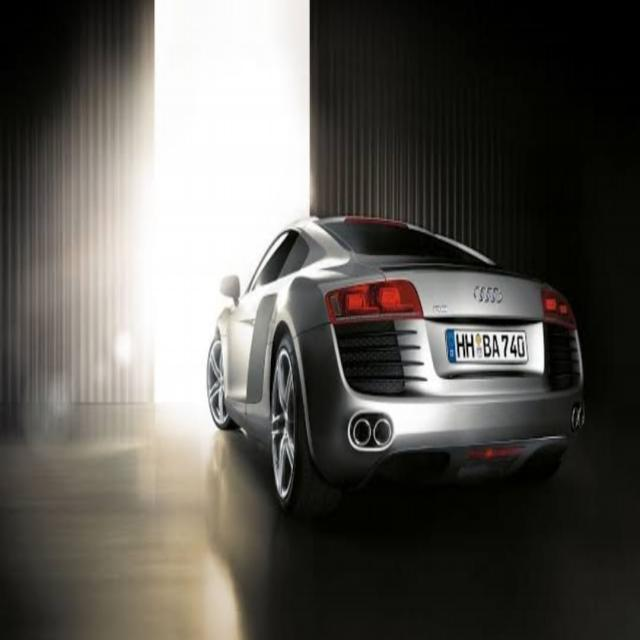Number-Plate: (448, 327, 530, 365)
